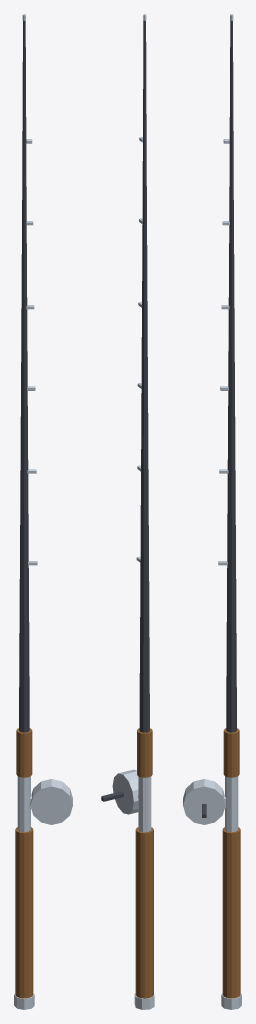
File: Tool_WZ_FishingRod.glb
3 renders of one model, left to right at view 1: azimuth 90°, elevation 25°; view 2: azimuth 210°, elevation 25°; view 3: azimuth 270°, elevation 25°, orthographic.
Parts seen in each view (by area): view 1: Tool_WZ_FishingRod; view 2: Tool_WZ_FishingRod; view 3: Tool_WZ_FishingRod.
Boxes of the visible parts, left/top/right/bottom form: Tool_WZ_FishingRod: left=14, top=14, right=72, bottom=1009; Tool_WZ_FishingRod: left=101, top=14, right=154, bottom=1009; Tool_WZ_FishingRod: left=183, top=14, right=241, bottom=1009.
Size of what is drawn, in the model's own units: 0.072 by 1.8 by 0.097.
